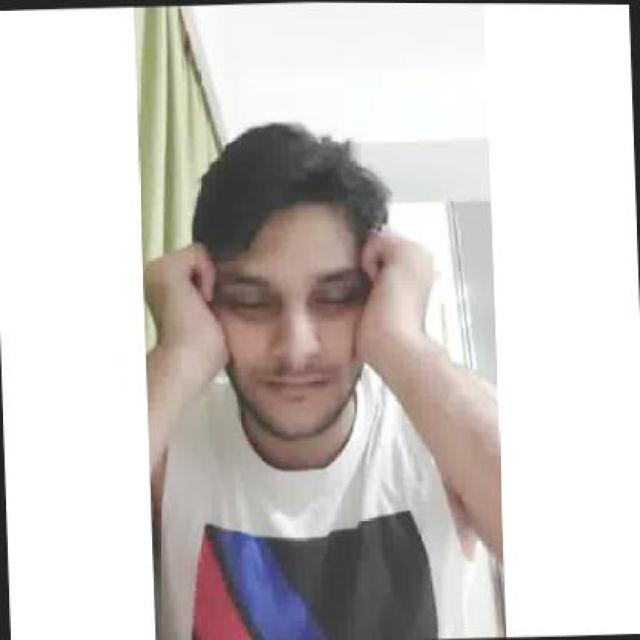inattentif: (199, 120, 379, 434)
